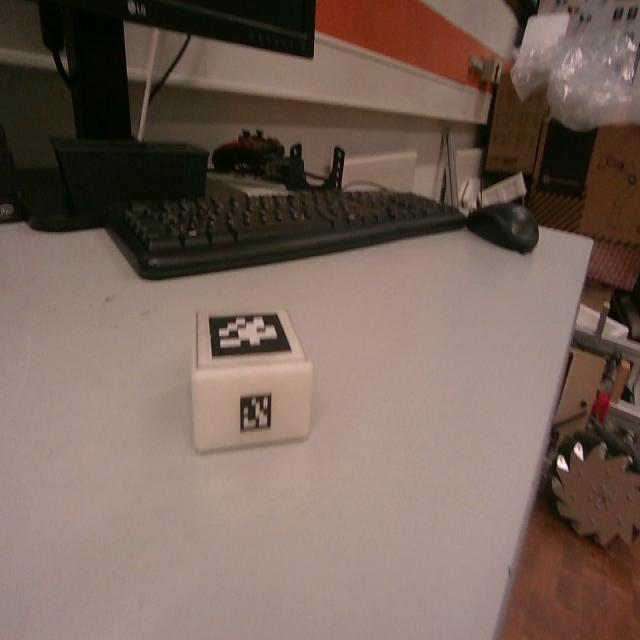Cube: (189, 304, 313, 452)
